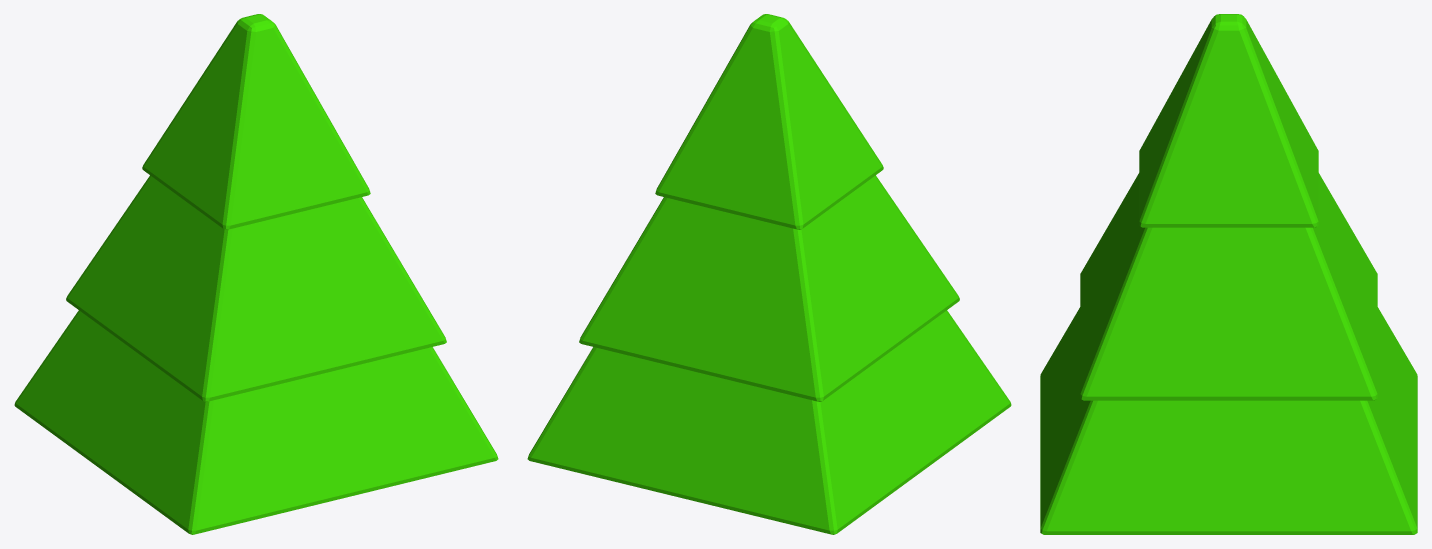
File: SummerTreeLeaves.glb
3 views of the same model, side by side, from view 1: azimuth 30°, elevation 25°; view 2: azimuth 150°, elevation 25°; view 3: azimuth 270°, elevation 25° (orthographic). The views are drawn at different scales.
Parts seen in each view (by area): view 1: SummerTreeLeaves; view 2: SummerTreeLeaves; view 3: SummerTreeLeaves.
Boxes of the visible parts, box(x1,y1,x2,y2) form: SummerTreeLeaves: box(14, 14, 498, 534); SummerTreeLeaves: box(527, 14, 1011, 534); SummerTreeLeaves: box(1040, 14, 1417, 534).
Bounding box in the file's own units: 5.92 × 7.6 × 5.92.
